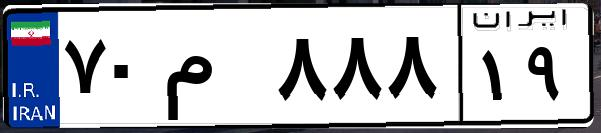0: (110, 28, 158, 98)
1: (475, 38, 525, 113)
7: (57, 26, 110, 100)
8: (270, 28, 330, 110), (385, 28, 445, 110), (330, 28, 385, 110)
9: (525, 38, 570, 115)
م: (158, 20, 270, 120)
